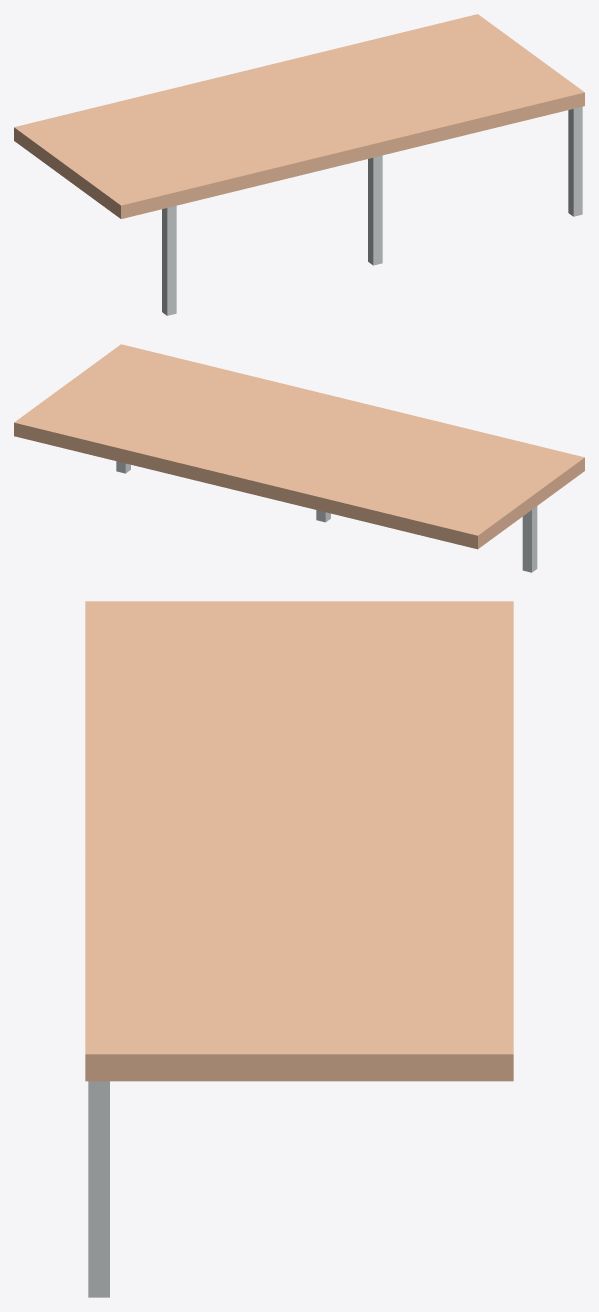
The model's file is desk-row-d16.glb.
3 renders of one model, top to bottom at view 1: azimuth 30°, elevation 25°; view 2: azimuth 150°, elevation 25°; view 3: azimuth 270°, elevation 25°, orthographic. The views are drawn at different scales.
Parts seen in each view (by area): view 1: desktop, shared-corner-leg (×3); view 2: desktop, shared-corner-leg; view 3: desktop, shared-corner-leg.
Boxes of the visible parts, box(x1,y1,x2,y2) form: desktop: box(14, 14, 584, 218); shared-corner-leg (×3): box(162, 106, 582, 315); desktop: box(14, 344, 584, 549); shared-corner-leg: box(522, 506, 537, 572); desktop: box(85, 601, 513, 1081); shared-corner-leg: box(88, 1081, 109, 1297).
Size of the model in its own units: 5 by 1.26 by 2.
Materials: 1 (1 with a texture image).
